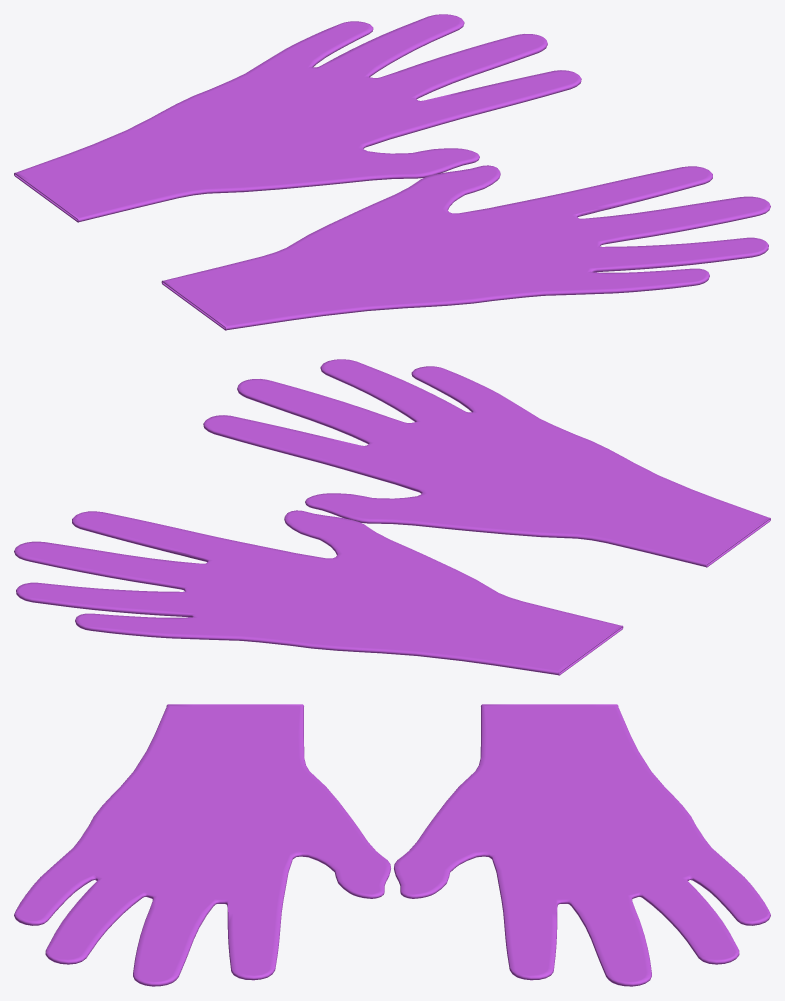
The model's file is gloves.fbx.
The picture shows the model from 3 angles, top to bottom: view 1: azimuth 30°, elevation 25°; view 2: azimuth 150°, elevation 25°; view 3: azimuth 270°, elevation 25°; orthographic projection. The views are drawn at different scales.
Parts seen in each view (by area): view 1: glove.003, glove.002; view 2: glove.002, glove.003; view 3: glove.002, glove.003.
Part boxes in pixels (x1,y1,x2,y2): glove.003: (161,165,770,330); glove.002: (14,14,581,222); glove.002: (14,510,623,675); glove.003: (203,359,770,567); glove.002: (394,704,770,986); glove.003: (14,704,390,986).
Bounding box in the file's own units: 0.2589 × 0.00175 × 0.2969.
